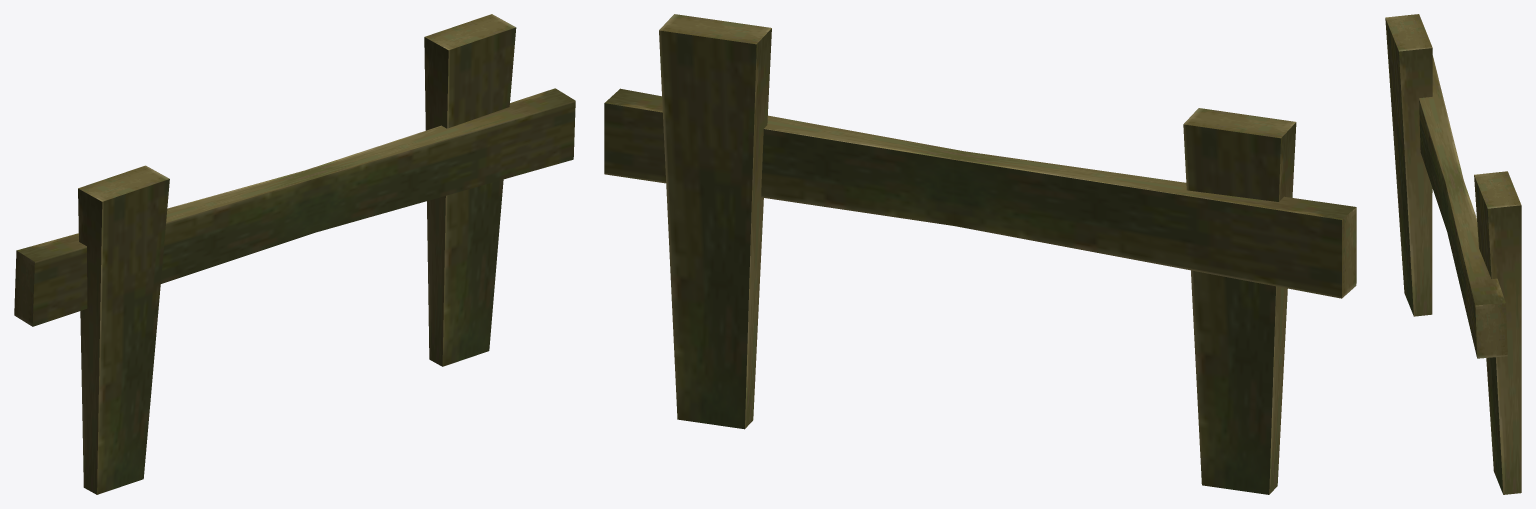
The model's file is Yland3_bj_07 Yland3.FBX.
The picture shows the model from 3 angles, left to right: view 1: azimuth 30°, elevation 25°; view 2: azimuth 150°, elevation 25°; view 3: azimuth 270°, elevation 25°; orthographic projection. The views are drawn at different scales.
Visible parts, largest first — view 1: Yland3_bj_07 Yland3; view 2: Yland3_bj_07 Yland3; view 3: Yland3_bj_07 Yland3.
Boxes of the visible parts, x1=… form: Yland3_bj_07 Yland3: x1=14, y1=14, x2=575, y2=494; Yland3_bj_07 Yland3: x1=604, y1=14, x2=1356, y2=494; Yland3_bj_07 Yland3: x1=1385, y1=14, x2=1521, y2=494.
Bounding box in the file's own units: 23.58 × 12.58 × 5.25.
